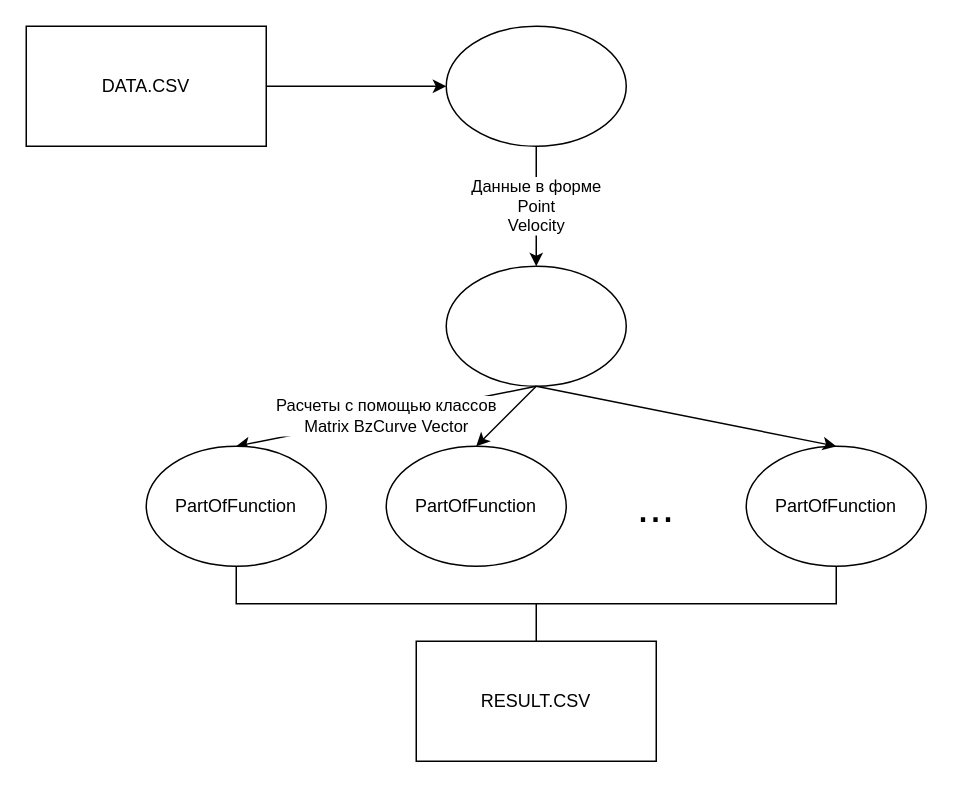
Image size: 953x788. Some labels were removed from this diagram. Here are the shapes that lost their labels. From the top down, the centre of each, then its label:
the point at 535,85: CSV_READER
the point at 535,325: FUCTION
